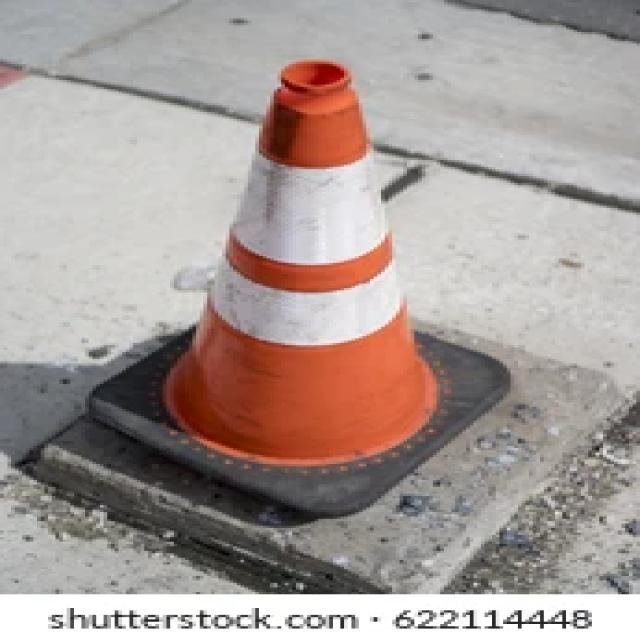Traffic Cone: (23, 12, 586, 586)
